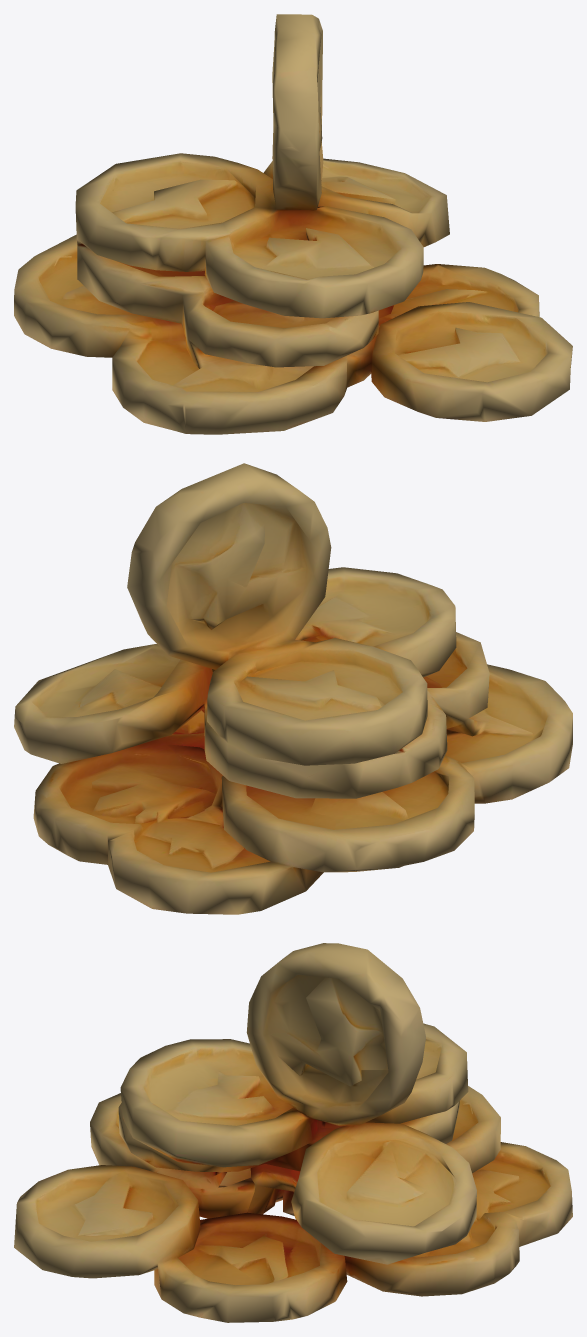
The model's file is item_coins.glb.
The picture shows the model from 3 angles, top to bottom: view 1: azimuth 30°, elevation 25°; view 2: azimuth 150°, elevation 25°; view 3: azimuth 270°, elevation 25°; orthographic projection. The views are drawn at different scales.
Parts seen in each view (by area): view 1: tripo_node_0abf2891-3d04-422e-9c69-01cbe209f061; view 2: tripo_node_0abf2891-3d04-422e-9c69-01cbe209f061; view 3: tripo_node_0abf2891-3d04-422e-9c69-01cbe209f061.
Boxes of the visible parts, bbox=[...] form: tripo_node_0abf2891-3d04-422e-9c69-01cbe209f061: bbox=[14, 14, 572, 434]; tripo_node_0abf2891-3d04-422e-9c69-01cbe209f061: bbox=[14, 463, 572, 914]; tripo_node_0abf2891-3d04-422e-9c69-01cbe209f061: bbox=[14, 943, 572, 1322].
Size of the model in its own units: 0.8346 by 0.5725 by 1.
Materials: 1 (1 with a texture image).
